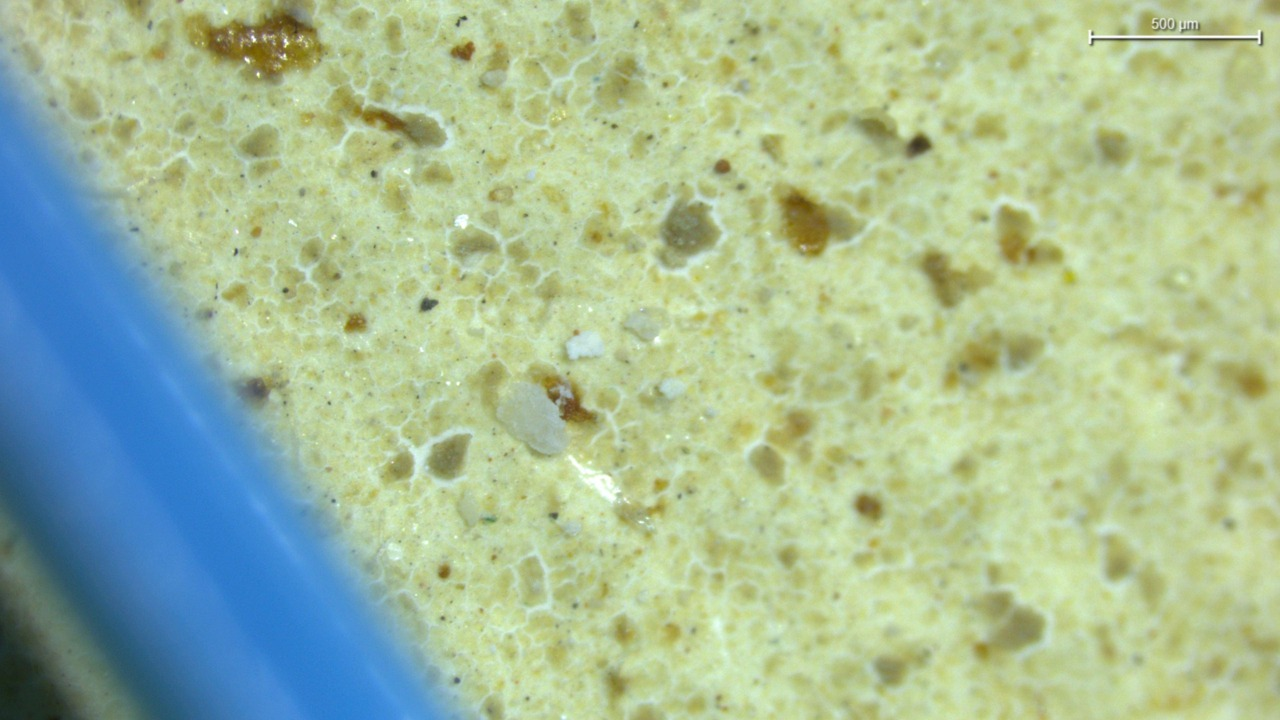microplastic_fragment: (496, 382, 567, 455), (623, 308, 664, 341), (566, 332, 604, 360), (658, 378, 686, 399)
